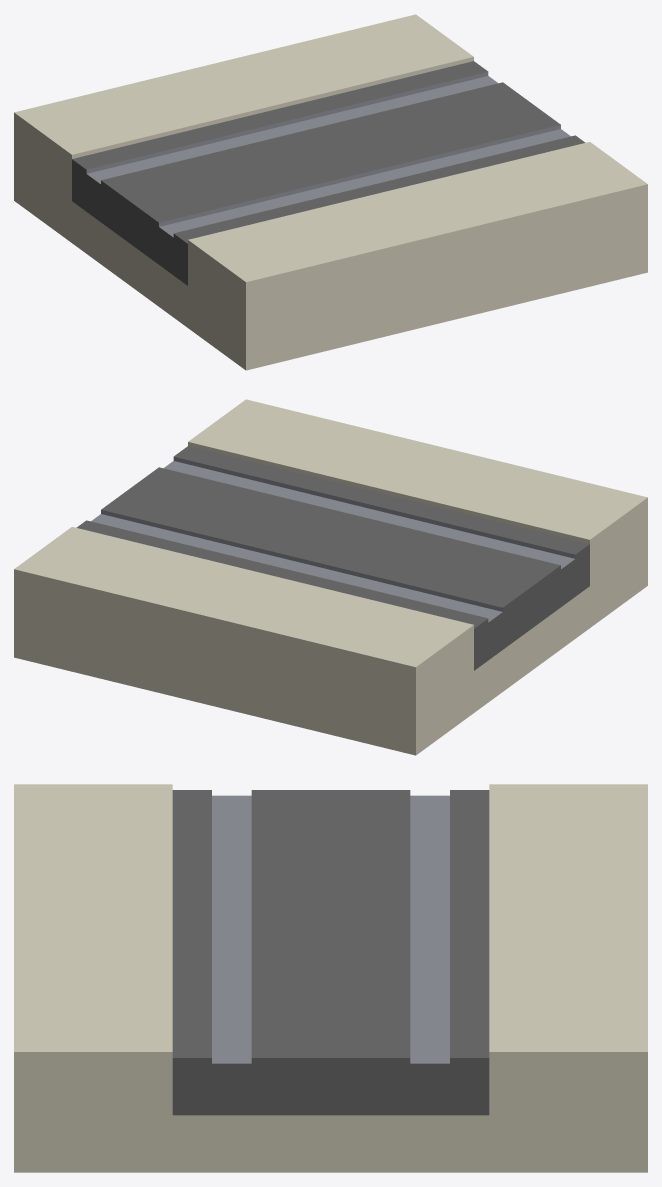
The model's file is roadTile_098.obj.
3 renders of one model, top to bottom at view 1: azimuth 30°, elevation 25°; view 2: azimuth 150°, elevation 25°; view 3: azimuth 270°, elevation 25°, orthographic. The views are drawn at different scales.
Parts seen in each view (by area): view 1: Mesh1_Group1_Model.097; view 2: Mesh1_Group1_Model.097; view 3: Mesh1_Group1_Model.097.
Boxes of the visible parts, box(x1,y1,x2,y2) form: Mesh1_Group1_Model.097: box(14, 14, 647, 370); Mesh1_Group1_Model.097: box(14, 399, 647, 755); Mesh1_Group1_Model.097: box(14, 784, 647, 1172).
Bounding box in the file's own units: 3 × 0.63 × 3.
